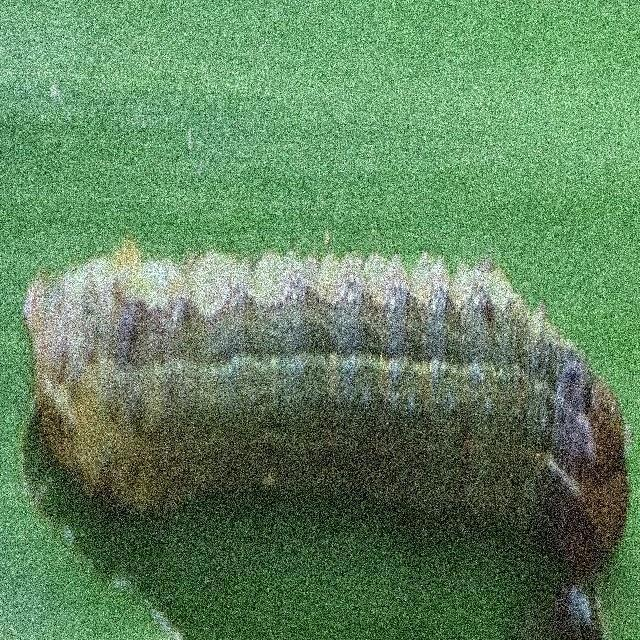gusano_cogollero: (16, 234, 640, 580)
